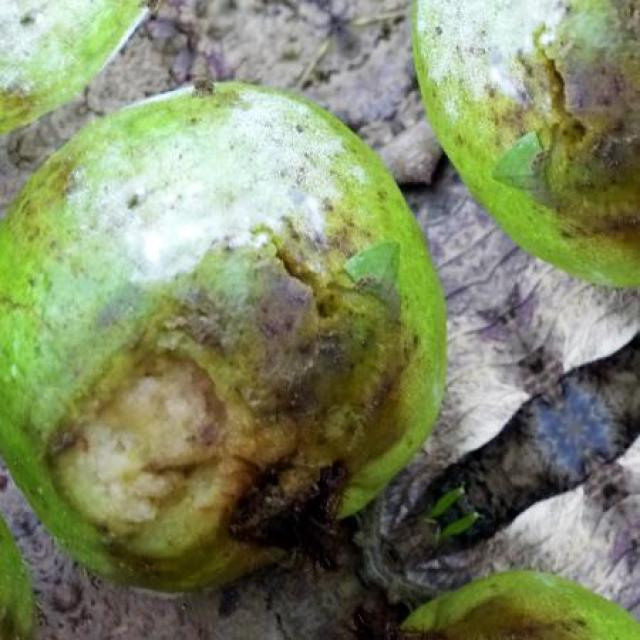Phytopthora: (0, 84, 445, 589)
